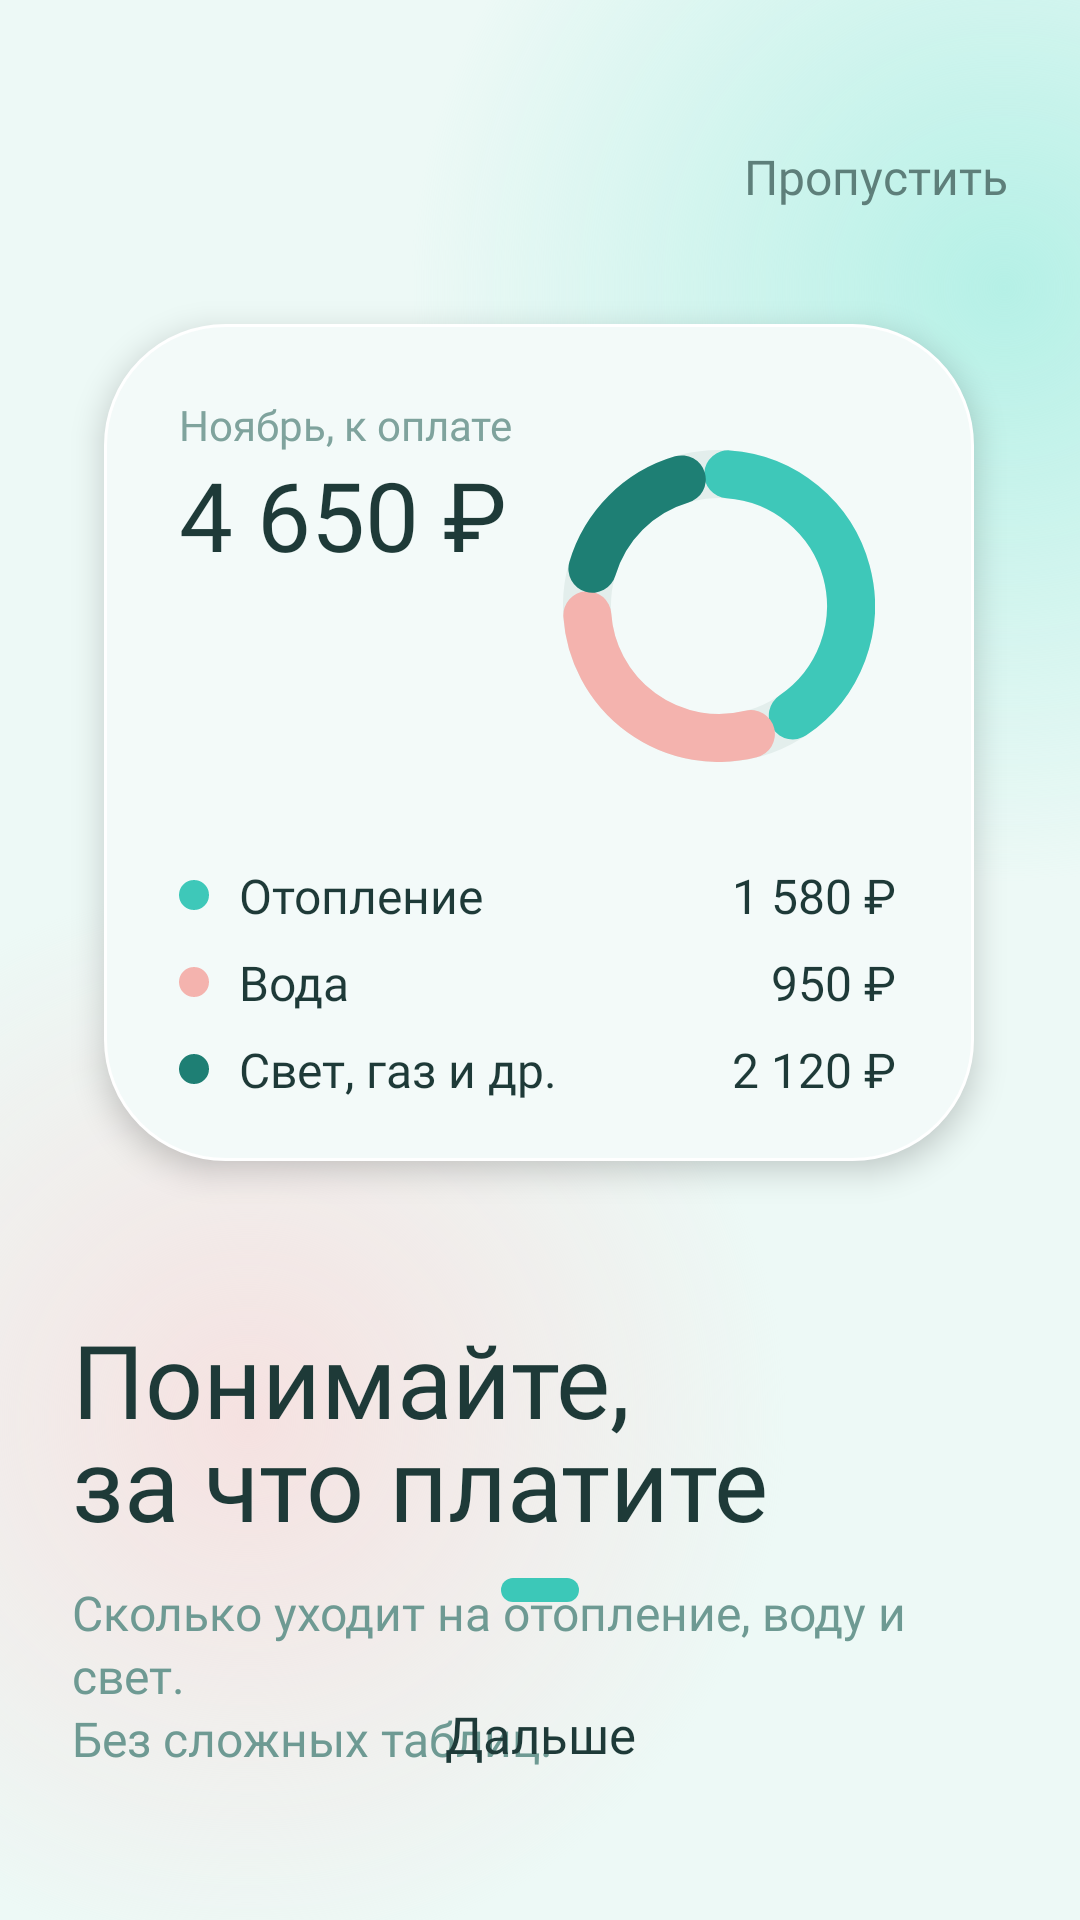

Screen size 1080×1920. Icon name, then its center in pixels as point (x, y):
ob donut: point (719, 606)
